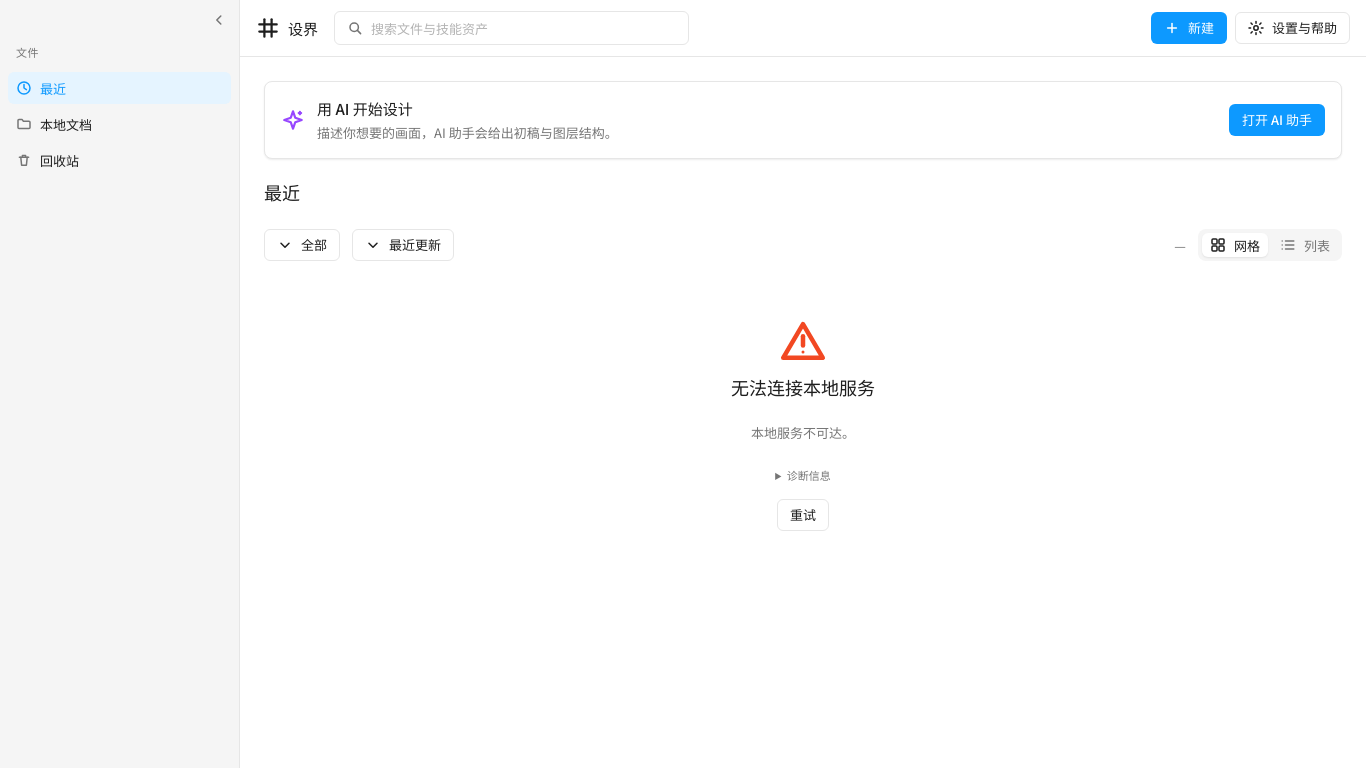
Test: HomeView · 加载与三态 › 接口失败 → 错误态（带错误码），重试后恢复
The width and height of the screenshot is (1366, 768).
Check: the text "无法连接本地服务" is shown, box [731,377,875,399]
Check: the heading "诊断信息" is shown, box [787,467,831,483]
Click the button "重试": (803, 515) [777,499,829,531]
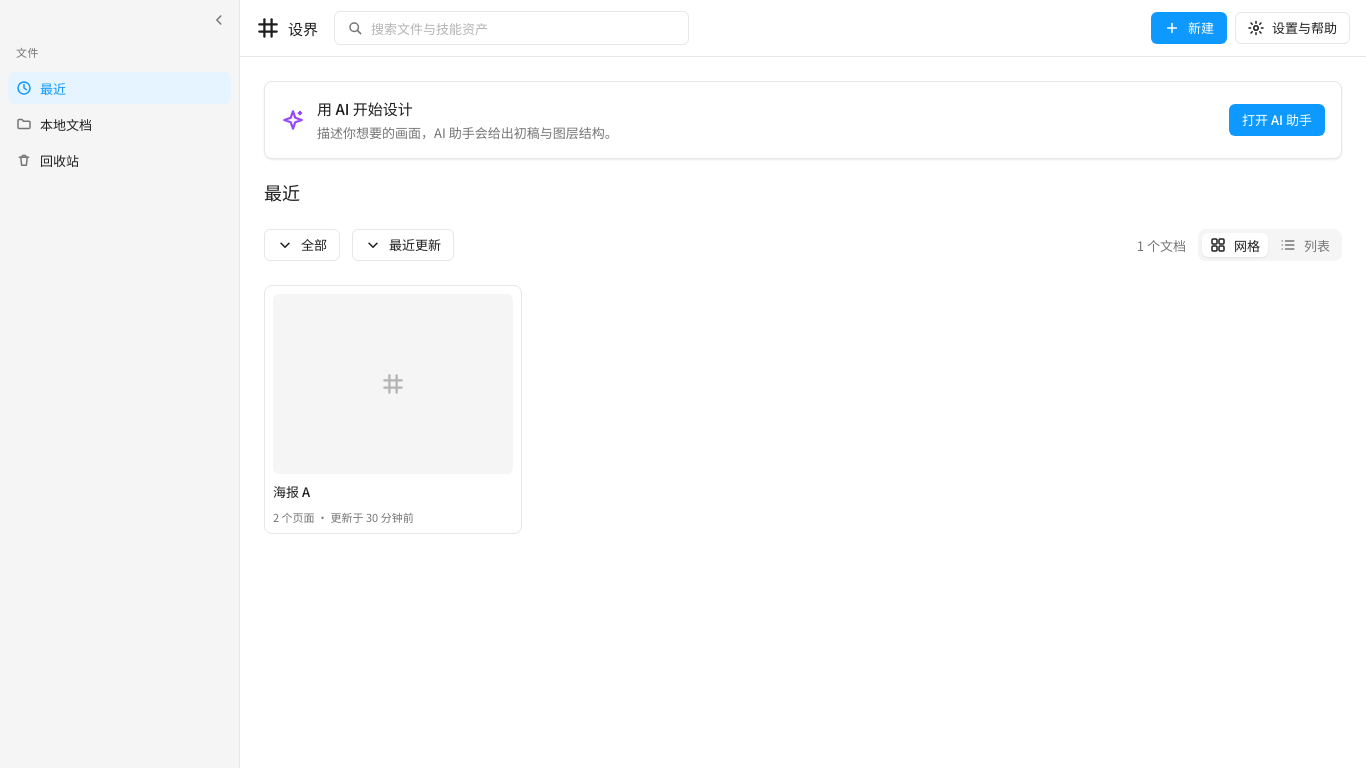
Check: the link with aria-label "打开「海报 A」" is shown, box [264,285,522,534]
Check: the text "1 个文档" is shown, box [1137,236,1186,254]
